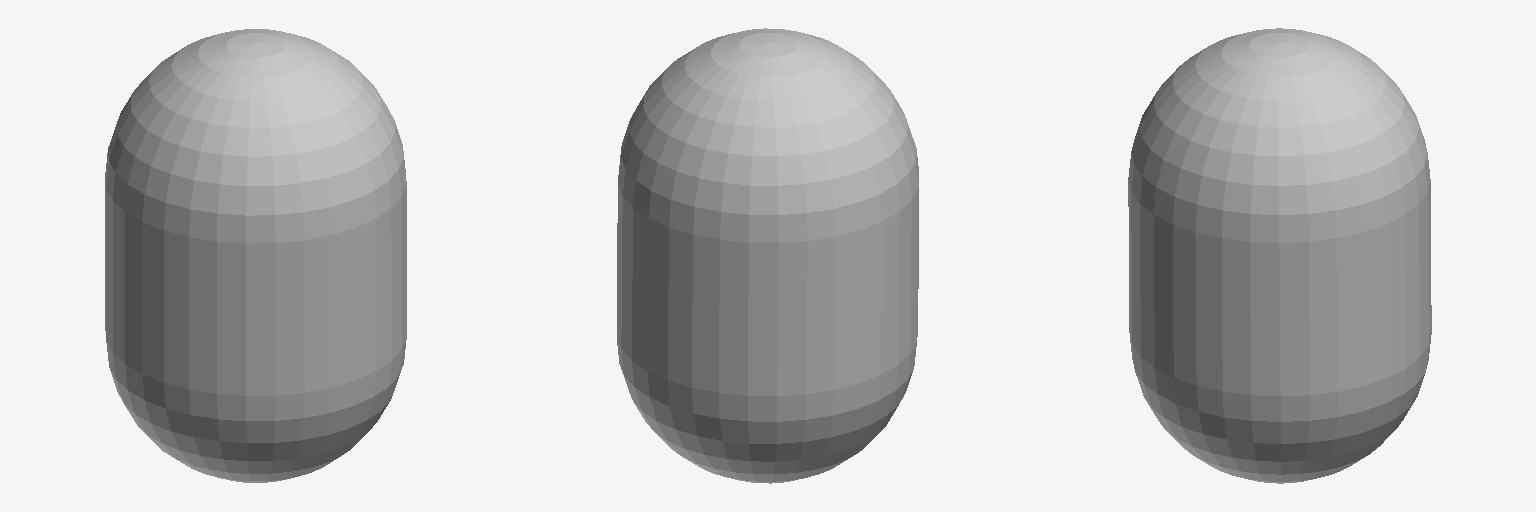
The model's file is pill.obj.
The picture shows the model from 3 angles: view 1: azimuth 30°, elevation 25°; view 2: azimuth 150°, elevation 25°; view 3: azimuth 270°, elevation 25°; orthographic projection.
Visible parts, largest first — view 1: Sphere; view 2: Sphere; view 3: Sphere.
Boxes of the visible parts, <box> form: Sphere: <box>105,29,406,482</box>; Sphere: <box>617,28,918,483</box>; Sphere: <box>1128,28,1431,483</box>.
Bounding box in the file's own units: 2.01 × 3.12 × 2.01.